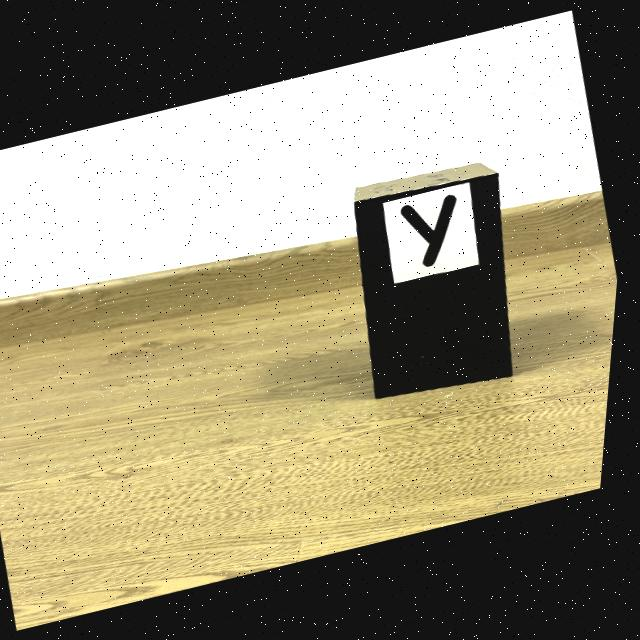Y: (404, 194, 459, 266)
